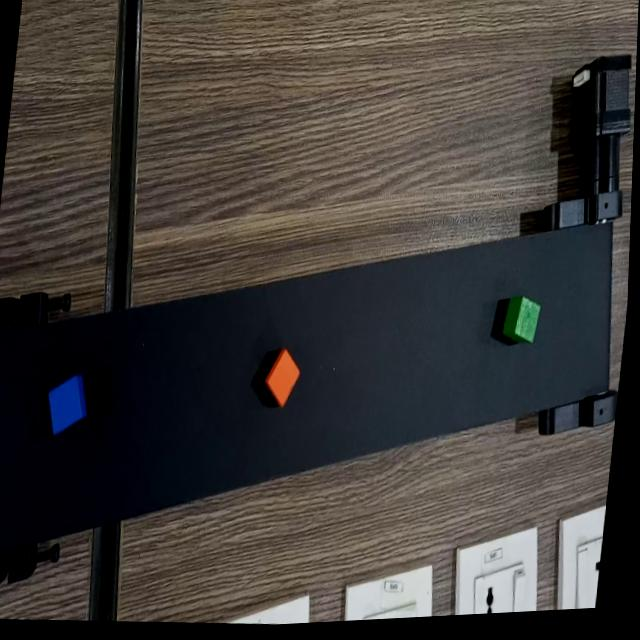cube: (40, 367, 98, 443), (497, 292, 550, 355)
